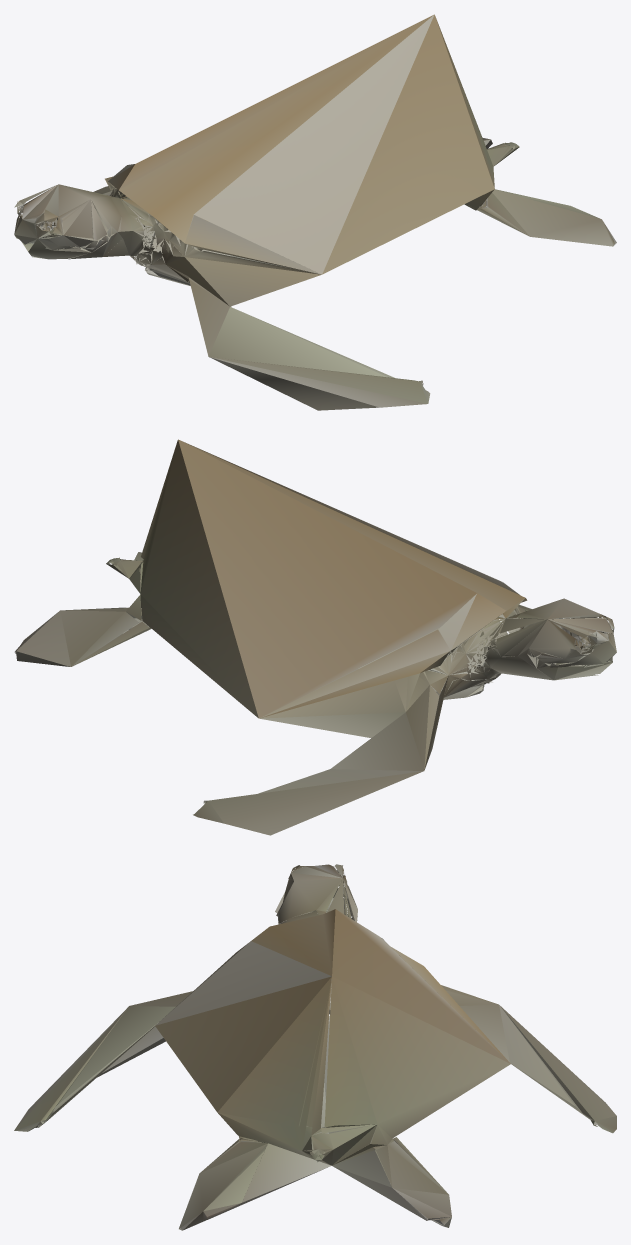
The model's file is sea-turtle.glb.
The picture shows the model from 3 angles, top to bottom: view 1: azimuth 30°, elevation 25°; view 2: azimuth 150°, elevation 25°; view 3: azimuth 270°, elevation 25°; orthographic projection.
Parts seen in each view (by area): view 1: sea-turtle; view 2: sea-turtle; view 3: sea-turtle.
Boxes of the visible parts, <box> form: sea-turtle: <box>14,14,616,410</box>; sea-turtle: <box>14,439,616,835</box>; sea-turtle: <box>14,864,616,1230</box>.
Size of the model in its own units: 1.1 by 0.4701 by 1.07.
